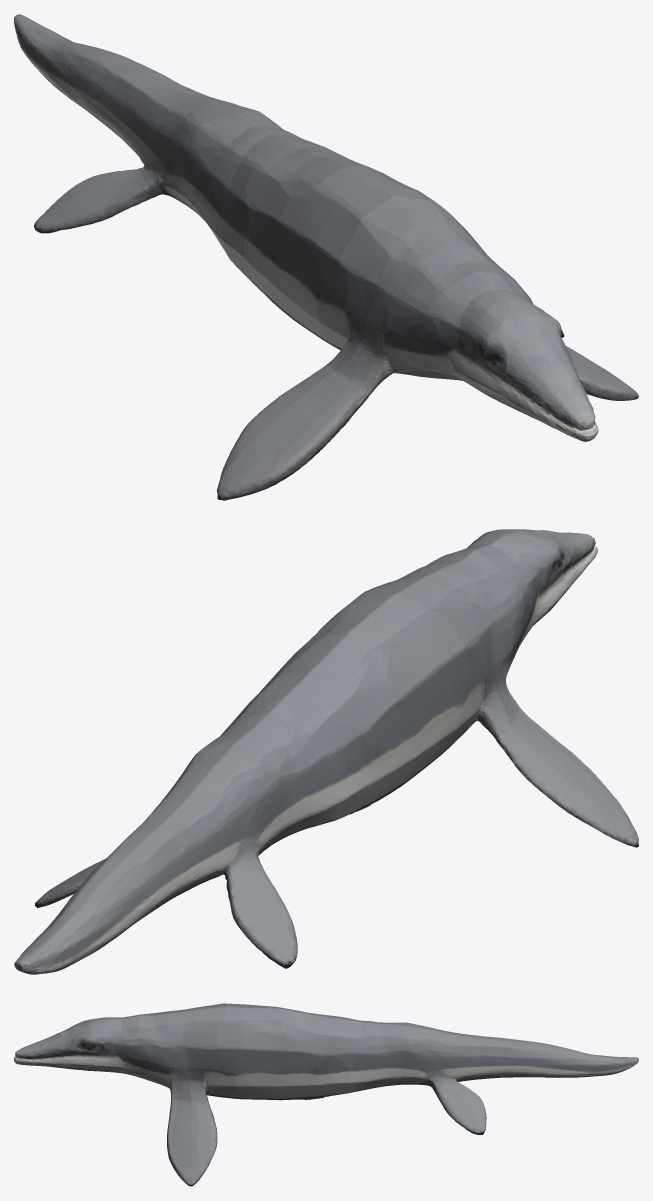
The picture shows the model from 3 angles, top to bottom: view 1: azimuth 30°, elevation 25°; view 2: azimuth 150°, elevation 25°; view 3: azimuth 270°, elevation 25°; orthographic projection. The views are drawn at different scales.
Parts seen in each view (by area): view 1: world; view 2: world; view 3: world.
Boxes of the visible parts, left/top/right/bottom form: world: left=14, top=14, right=638, bottom=500; world: left=14, top=529, right=638, bottom=974; world: left=14, top=1003, right=638, bottom=1186.
Size of the model in its own units: 1.19 by 0.613 by 2.8.
1 material, 1 textured.
